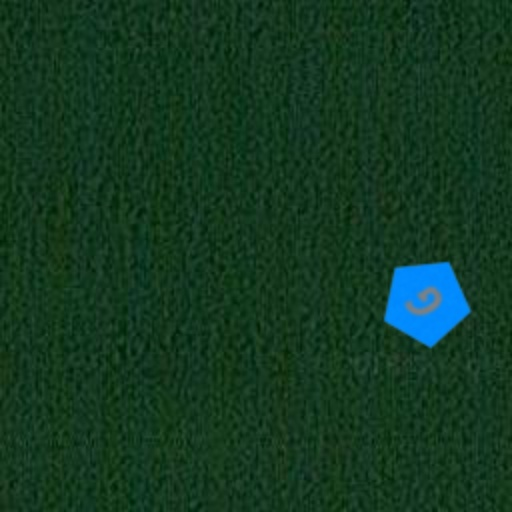pentagon: (360, 236, 492, 368)
